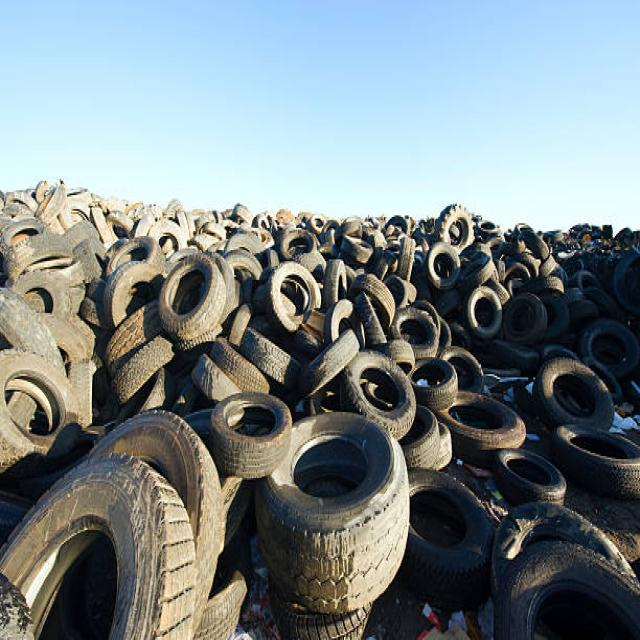plastic: (21, 192, 636, 610)
